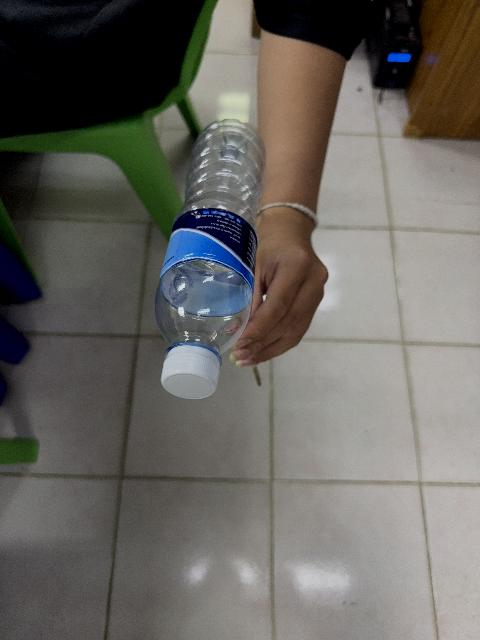bottle: (155, 120, 263, 398)
